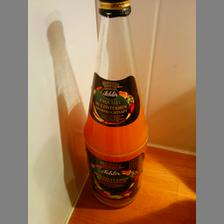Saft: (83, 0, 150, 208)
